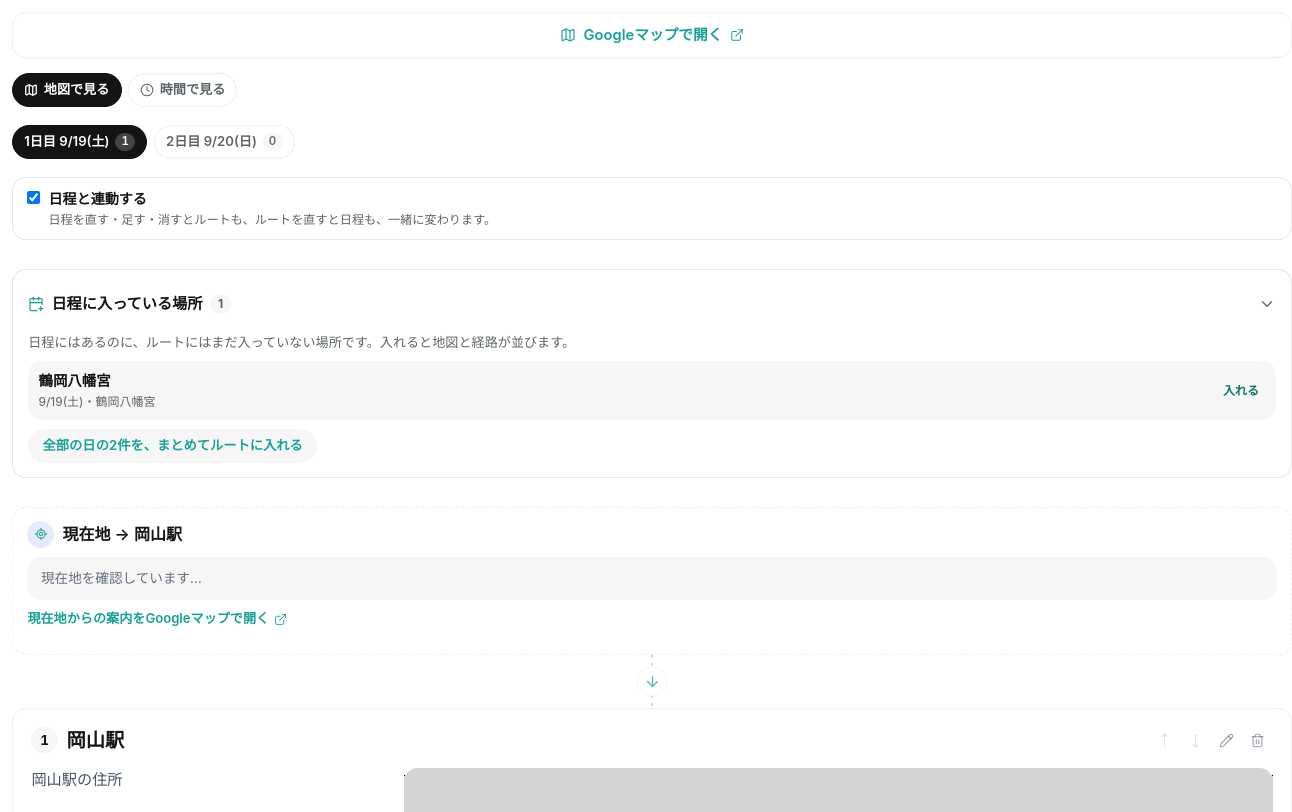
旅行のルート › 候補はその日のぶんだけ出す
Click the button "2日目 9/20(日) 0". click: (224, 142)
box: [154,125,295,159]
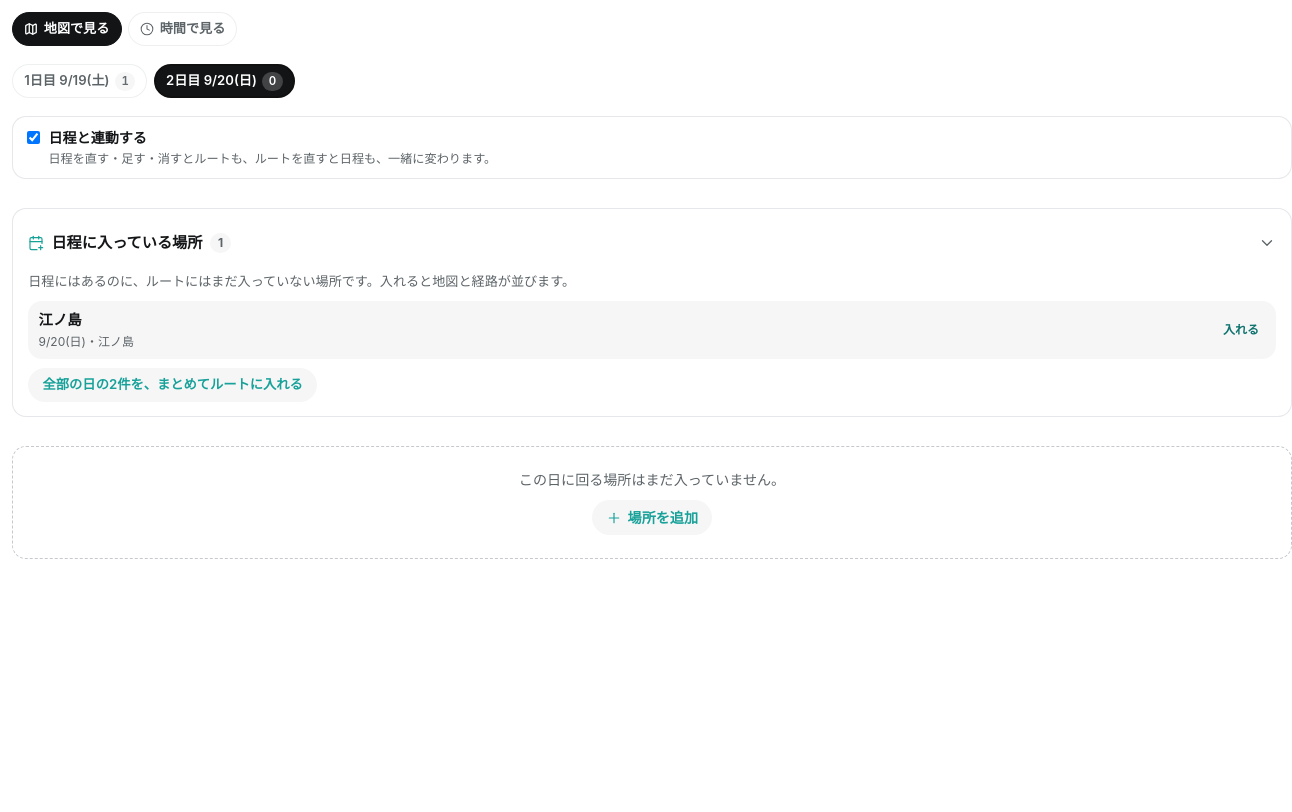
Check: the text "江ノ島" is shown, box [39,311,82,328]
Check: the text "鶴岡八幡宮" is gone
